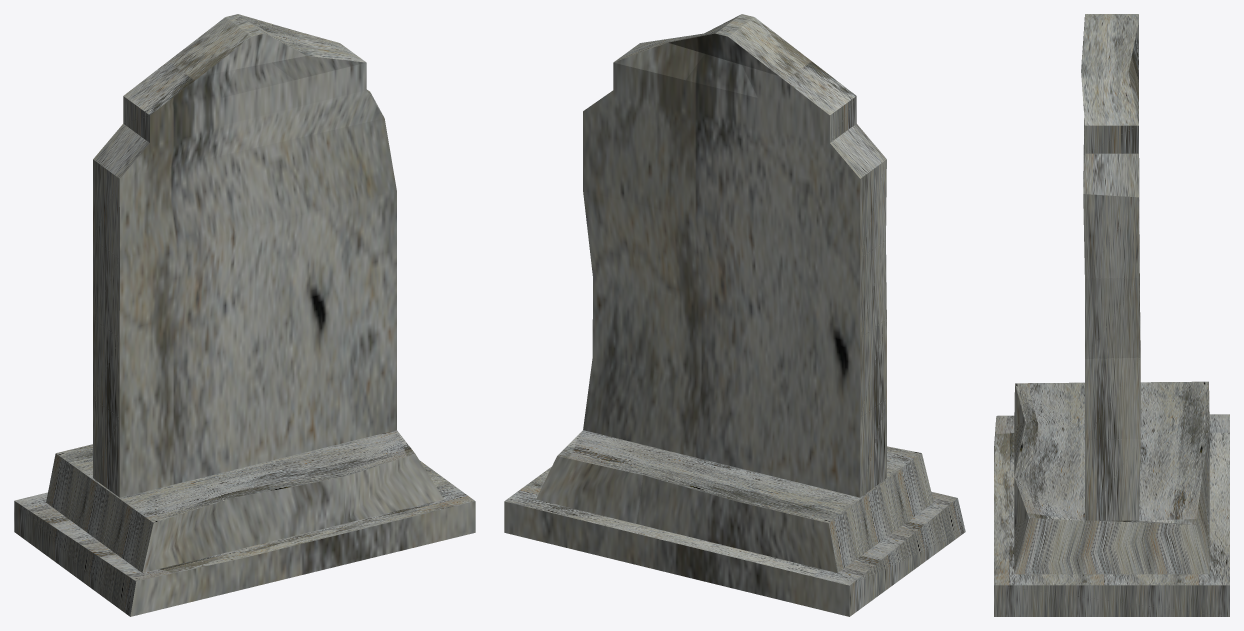
The model's file is Tombstone2.fbx.
3 renders of one model, left to right at view 1: azimuth 30°, elevation 25°; view 2: azimuth 150°, elevation 25°; view 3: azimuth 270°, elevation 25°, orthographic.
Visible parts, largest first — view 1: Cube.147; view 2: Cube.147; view 3: Cube.147.
Boxes of the visible parts, x1,y1,x2,y2 form: Cube.147: (14, 14, 475, 616); Cube.147: (504, 14, 965, 616); Cube.147: (994, 14, 1229, 616).
Size of the model in its own units: 134 by 188 by 78.23.
